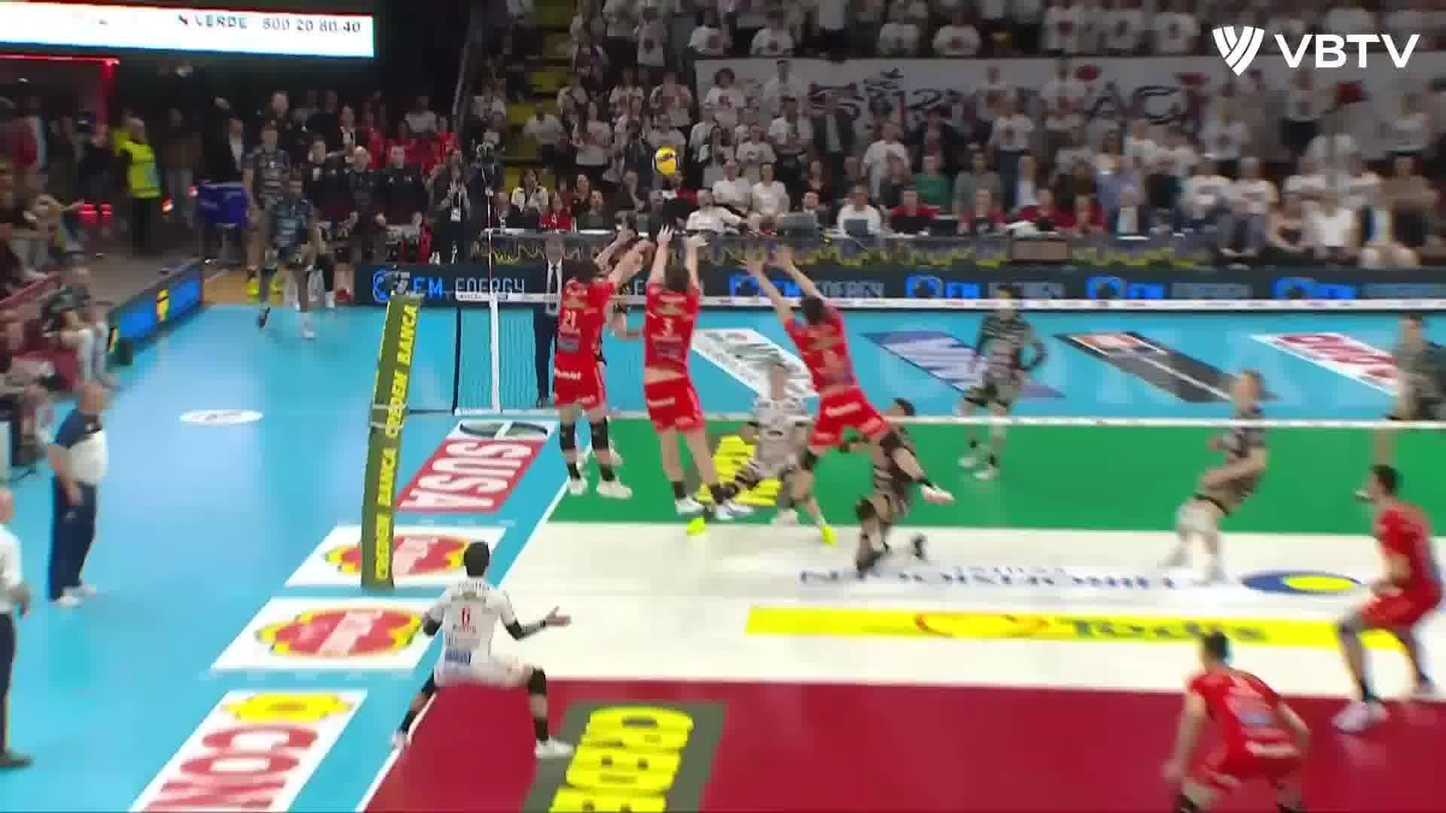balls: (651, 145, 682, 176)
